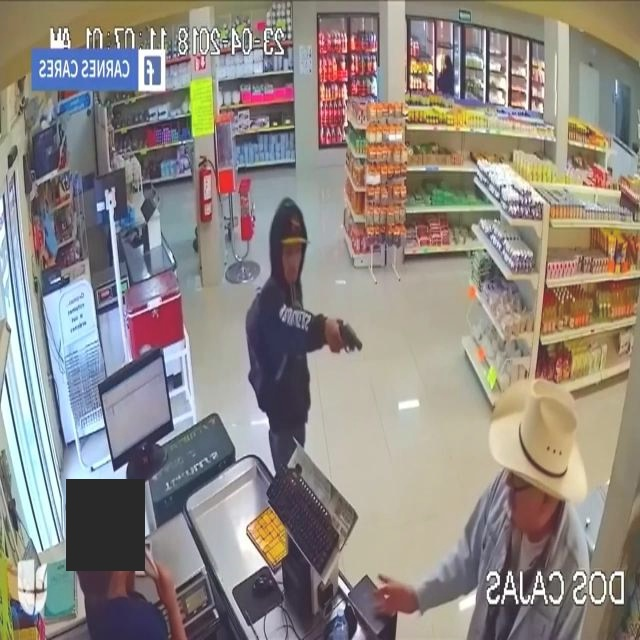gun: (326, 295, 372, 380)
